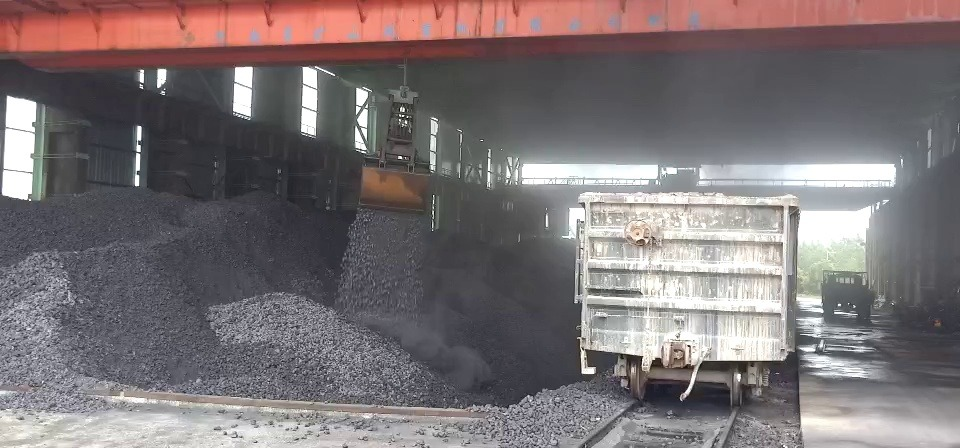dust: (378, 246, 564, 378), (573, 140, 795, 201)
